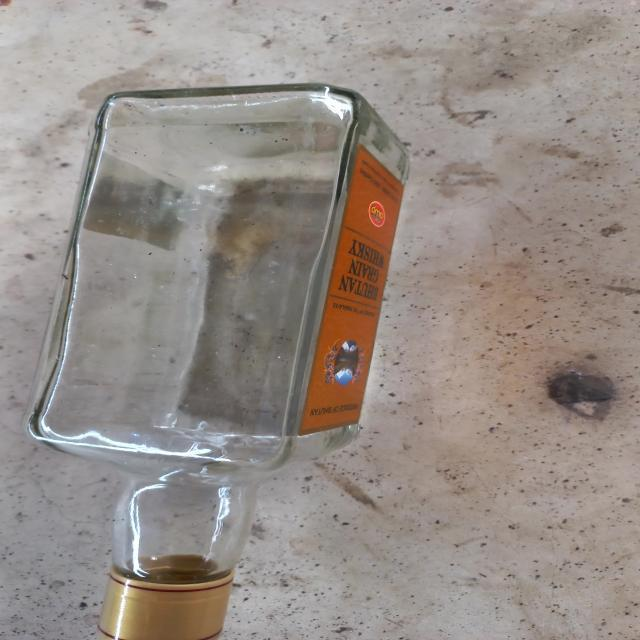Glass: (22, 81, 412, 640)
